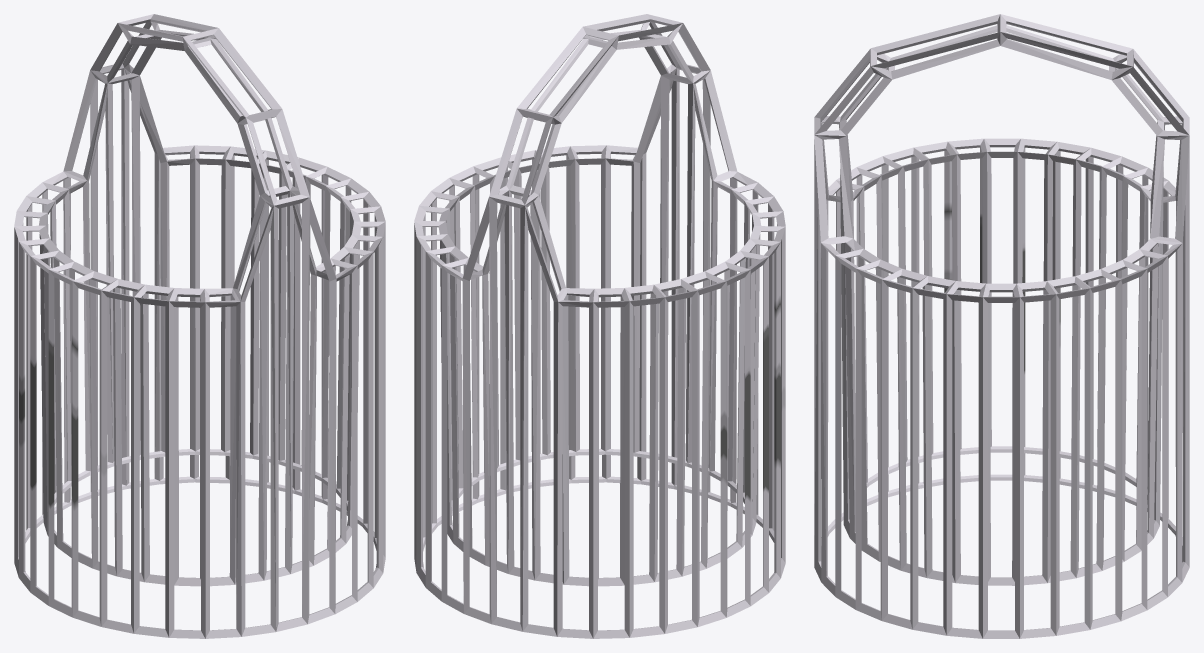
The model's file is bucket_wire.obj.
3 views of the same model, side by side, from view 1: azimuth 30°, elevation 25°; view 2: azimuth 150°, elevation 25°; view 3: azimuth 270°, elevation 25° (orthographic).
Parts seen in each view (by area): view 1: paintBucket_円柱; view 2: paintBucket_円柱; view 3: paintBucket_円柱.
Boxes of the visible parts, x1=… form: paintBucket_円柱: x1=14, y1=14, x2=385, y2=638; paintBucket_円柱: x1=414, y1=14, x2=785, y2=638; paintBucket_円柱: x1=814, y1=14, x2=1189, y2=638.
Bounding box in the file's own units: 2.03 × 3.2 × 2.03.
Materials: 1 (1 with a texture image).
